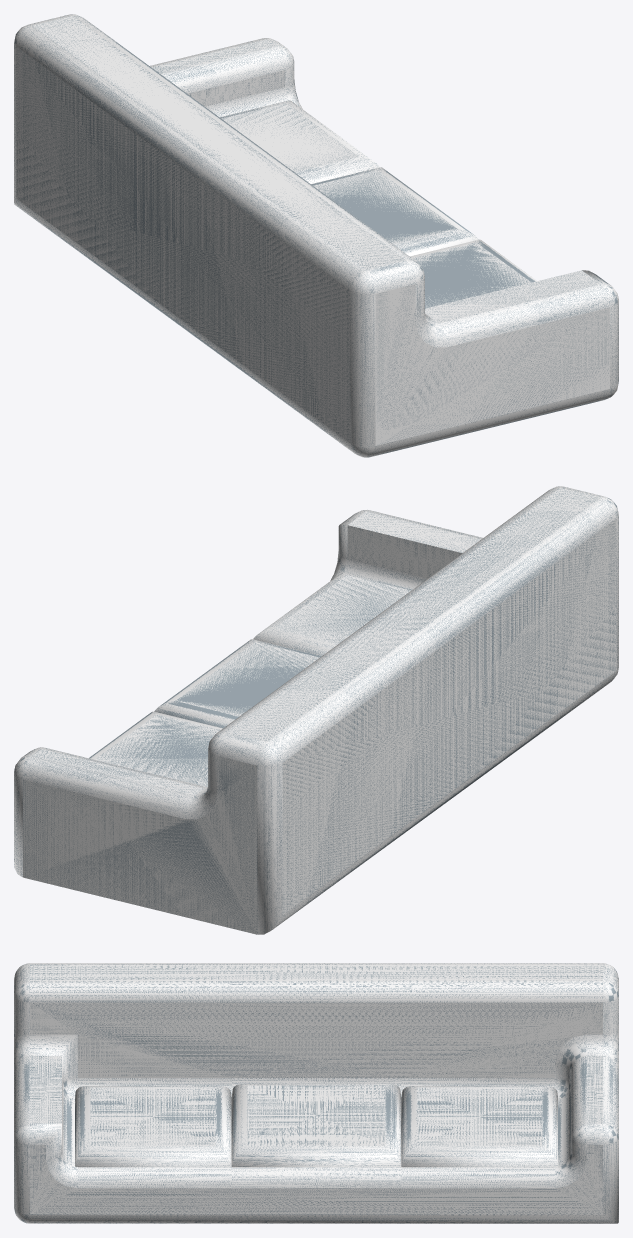
File: sofa.fbx
3 views of the same model, one above another, from view 1: azimuth 30°, elevation 25°; view 2: azimuth 150°, elevation 25°; view 3: azimuth 270°, elevation 25° (orthographic). The views are drawn at different scales.
Visible parts, largest first — view 1: Group2, Group3, Group4, Group1; view 2: Group2, Group3, Group1, Group4; view 3: Group2, Group3, Group1, Group4.
Boxes of the visible parts, box(x1,y1,x2,y2) form: Group2: box(14, 14, 618, 457); Group3: box(311, 167, 478, 256); Group4: box(220, 100, 379, 183); Group1: box(410, 239, 536, 308); Group2: box(14, 486, 618, 934); Group3: box(154, 639, 321, 728); Group1: box(253, 572, 413, 655); Group4: box(89, 711, 222, 787); Group2: box(14, 963, 618, 1223); Group3: box(231, 1084, 401, 1167); Group1: box(75, 1086, 231, 1167); Group4: box(401, 1086, 557, 1167).
Size of the model in its own units: 1.65 by 1.1 by 3.78.
